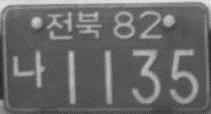1: (103, 47, 116, 107), (65, 48, 78, 105)
2: (138, 8, 162, 42)
3: (129, 48, 162, 103)
5: (169, 46, 199, 106)
8: (113, 9, 135, 40)
나: (11, 50, 46, 90)
전북_O: (45, 11, 101, 38)
